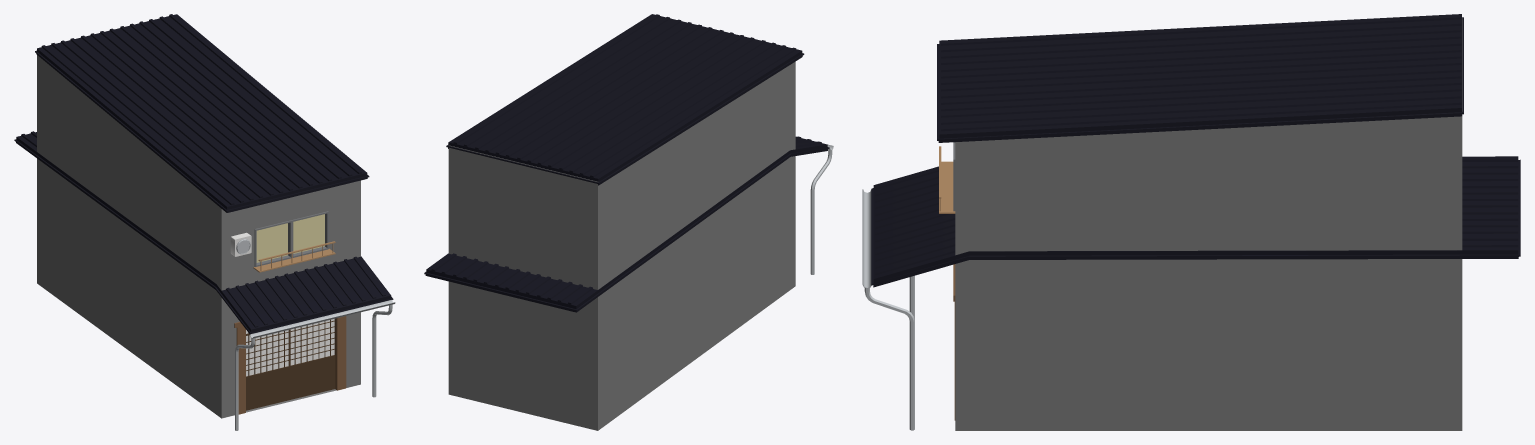
Rendered from SM_building_alley_japan_08.fbx.
3 renders of one model, left to right at view 1: azimuth 30°, elevation 25°; view 2: azimuth 150°, elevation 25°; view 3: azimuth 270°, elevation 25°, orthographic. The views are drawn at different scales.
Parts seen in each view (by area): view 1: Object025; view 2: Object025; view 3: Object025.
Boxes of the visible parts, x1,y1,x2,y2 form: Object025: (14, 14, 395, 430); Object025: (424, 14, 833, 430); Object025: (862, 14, 1520, 430).
Size of the model in its own units: 192 by 558 by 304.
